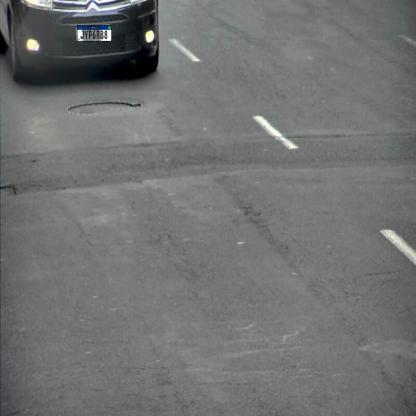PlacaM: (77, 25, 112, 42)
